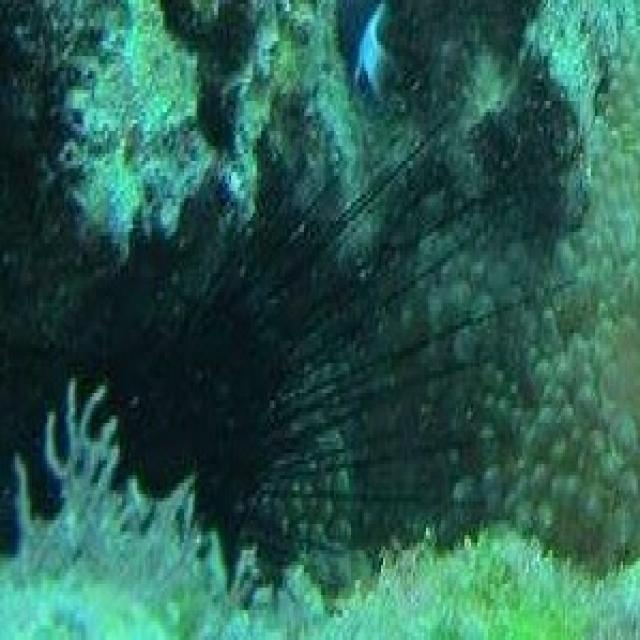Urchin: (21, 120, 578, 561)
